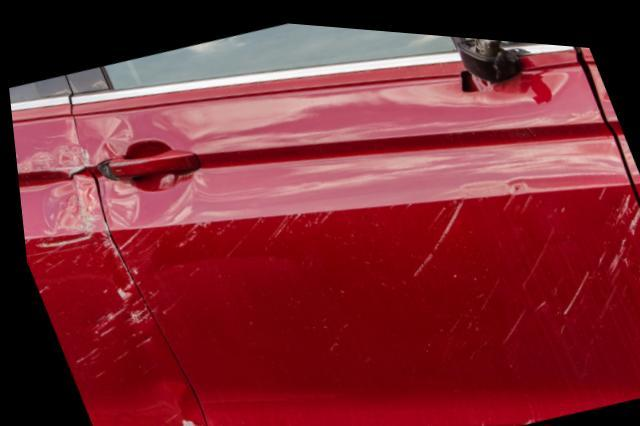dent: (73, 114, 130, 166), (100, 177, 135, 223), (105, 415, 197, 426)
scratch: (111, 172, 640, 330), (19, 181, 145, 380), (253, 411, 540, 426)
